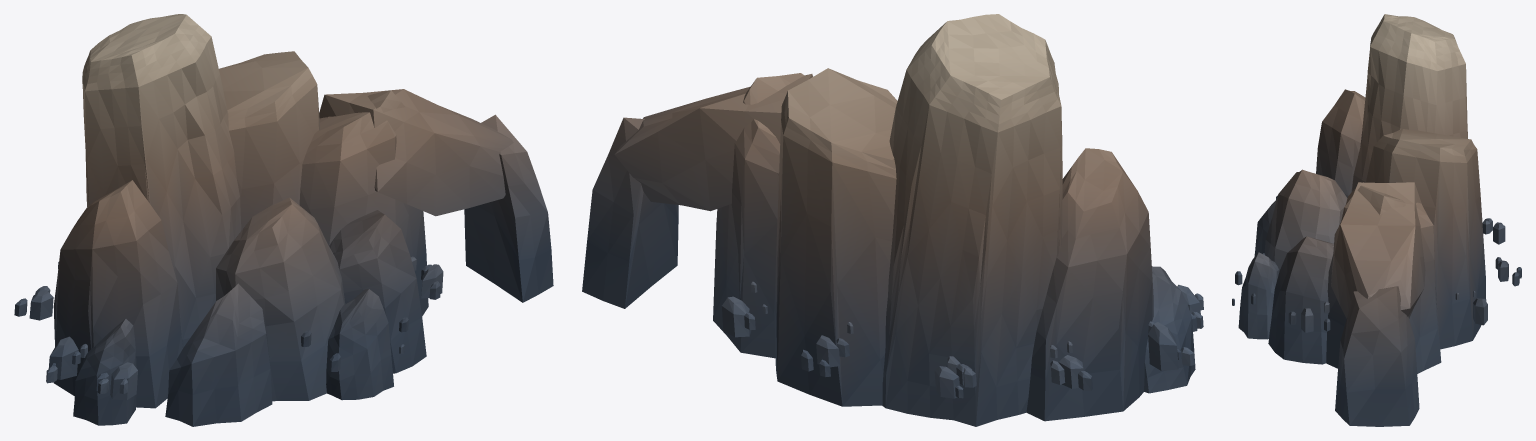
File: mountain-palm-cove.glb
The picture shows the model from 3 angles, left to right: view 1: azimuth 30°, elevation 25°; view 2: azimuth 150°, elevation 25°; view 3: azimuth 270°, elevation 25°; orthographic projection. The views are drawn at different scales.
Parts seen in each view (by area): view 1: 01 • leaning pale summit, 02 • split western face, 05 • front fractured slab, 09 • diagonal natural rock roof, 03 • rear ridge, 04 • inland arch buttress, 06 • low talus wedge, 08 • leaning seaward stack, 07 • eastern talus, 11 • front scree, 10 • west scree, Ground fragment 01 (+3 smaller); view 2: 01 • leaning pale summit, 03 • rear ridge, 02 • split western face, 04 • inland arch buttress, 09 • diagonal natural rock roof, 08 • leaning seaward stack, 10 • west scree, Ground fragment 01, Ground fragment 18, Ground fragment 27, Ground fragment 22; view 3: 03 • rear ridge, 01 • leaning pale summit, 08 • leaning seaward stack, 09 • diagonal natural rock roof, 07 • eastern talus, 05 • front fractured slab, 04 • inland arch buttress, 02 • split western face, 11 • front scree, 06 • low talus wedge, Ground fragment 18, Ground fragment 14.
Part boxes in pixels (x1=…): 01 • leaning pale summit: x1=82, y1=14, x2=241, y2=347; 02 • split western face: x1=53, y1=180, x2=182, y2=408; 05 • front fractured slab: x1=216, y1=197, x2=345, y2=401; 09 • diagonal natural rock roof: x1=319, y1=89, x2=513, y2=216; 03 • rear ridge: x1=219, y1=51, x2=320, y2=230; 04 • inland arch buttress: x1=299, y1=90, x2=428, y2=316; 06 • low talus wedge: x1=165, y1=283, x2=272, y2=426; 08 • leaning seaward stack: x1=464, y1=114, x2=553, y2=302; 07 • eastern talus: x1=329, y1=210, x2=426, y2=373; 11 • front scree: x1=326, y1=289, x2=393, y2=400; 10 • west scree: x1=73, y1=318, x2=136, y2=425; Ground fragment 01: x1=48, y1=336, x2=78, y2=379; 01 • leaning pale summit: x1=882, y1=14, x2=1062, y2=426; 03 • rear ridge: x1=774, y1=68, x2=897, y2=406; 02 • split western face: x1=1026, y1=148, x2=1153, y2=421; 04 • inland arch buttress: x1=713, y1=73, x2=804, y2=358; 09 • diagonal natural rock roof: x1=614, y1=74, x2=812, y2=211; 08 • leaning seaward stack: x1=582, y1=117, x2=678, y2=308; 10 • west scree: x1=1144, y1=266, x2=1195, y2=393; Ground fragment 01: x1=1148, y1=322, x2=1178, y2=370; Ground fragment 18: x1=722, y1=296, x2=751, y2=337; Ground fragment 27: x1=934, y1=366, x2=959, y2=398; Ground fragment 22: x1=816, y1=335, x2=840, y2=367; 03 • rear ridge: x1=1366, y1=129, x2=1486, y2=349; 01 • leaning pale summit: x1=1351, y1=14, x2=1467, y2=192; 08 • leaning seaward stack: x1=1335, y1=286, x2=1419, y2=426; 09 • diagonal natural rock roof: x1=1331, y1=182, x2=1425, y2=318; 07 • eastern talus: x1=1268, y1=236, x2=1333, y2=364; 05 • front fractured slab: x1=1264, y1=169, x2=1347, y2=272; 04 • inland arch buttress: x1=1326, y1=182, x2=1441, y2=373; 02 • split western face: x1=1316, y1=89, x2=1365, y2=197; 11 • front scree: x1=1238, y1=252, x2=1278, y2=339; 06 • low talus wedge: x1=1254, y1=199, x2=1276, y2=256; Ground fragment 18: x1=1473, y1=298, x2=1487, y2=325; Ground fragment 14: x1=1301, y1=308, x2=1313, y2=332.
Bounding box in the file's own units: 102 × 62.49 × 61.99.
